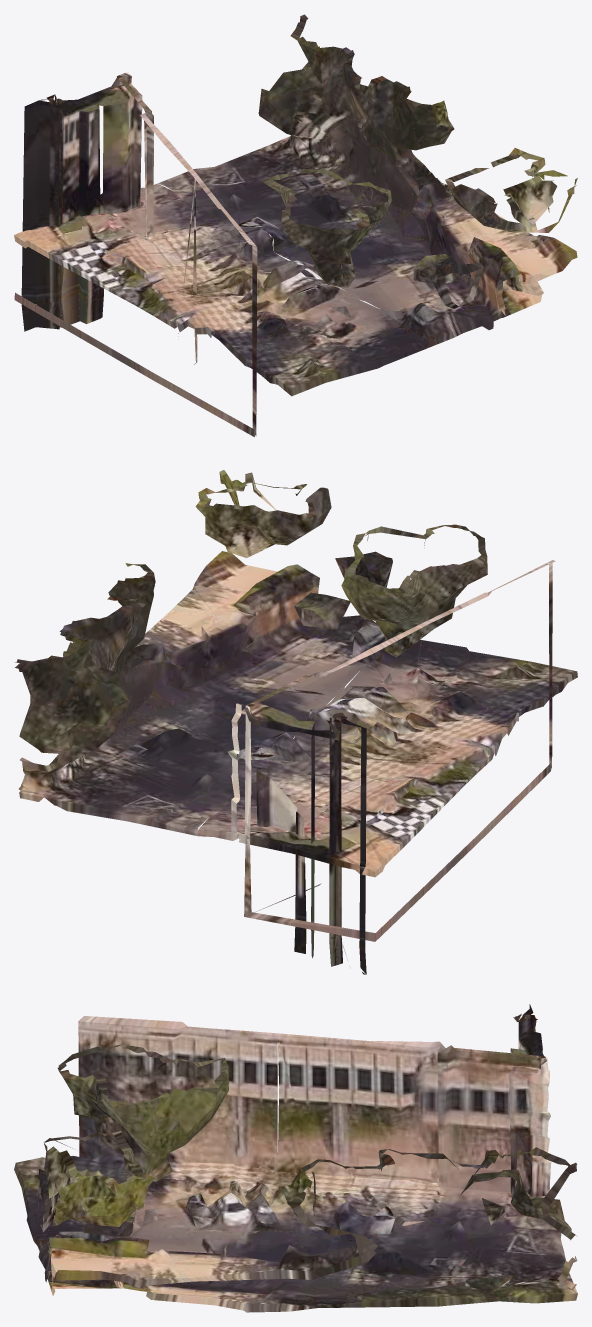
3 renders of one model, top to bottom at view 1: azimuth 30°, elevation 25°; view 2: azimuth 150°, elevation 25°; view 3: azimuth 270°, elevation 25°, orthographic. The views are drawn at different scales.
Visible parts, largest first — view 1: Mesh_0; view 2: Mesh_0; view 3: Mesh_0.
Part boxes in pixels (left/top/right/bottom): Mesh_0: left=14, top=14, right=577, bottom=437; Mesh_0: left=15, top=470, right=577, bottom=974; Mesh_0: left=14, top=1004, right=577, bottom=1312.
Bounding box in the file's own units: 33.34 × 20.92 × 41.35.
2 materials, 2 textured.
